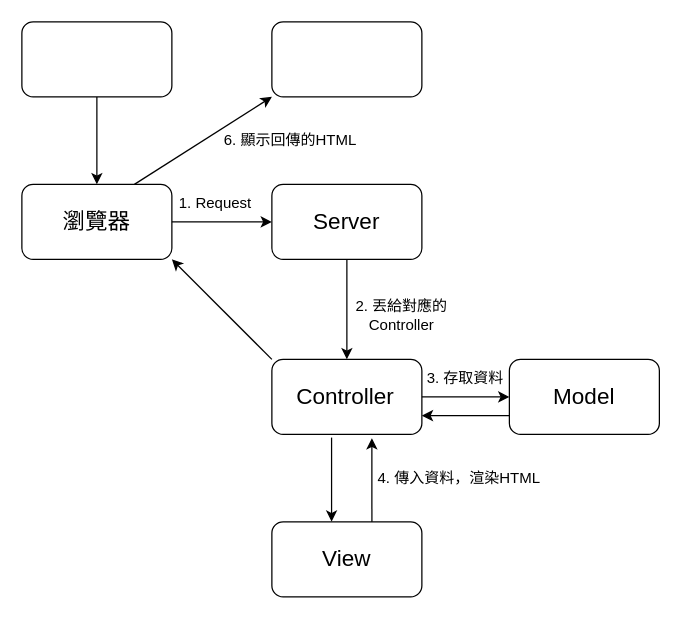
Some shapes in this 681 by 619 pixel diagram are drawn without their labels. The box of each missing label's shape, as (x1, y1, x2, y2) in pixels:
造訪網站: (21, 21, 172, 97)
顯示頁面: (271, 21, 422, 97)
